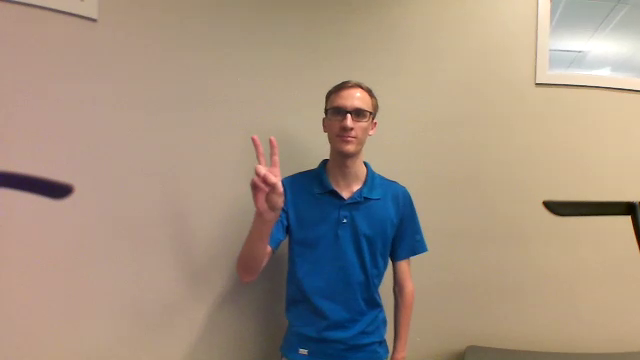peace: (239, 128, 296, 224)
